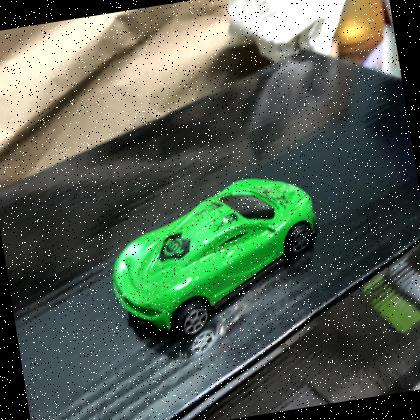Car: (112, 179, 318, 337)
